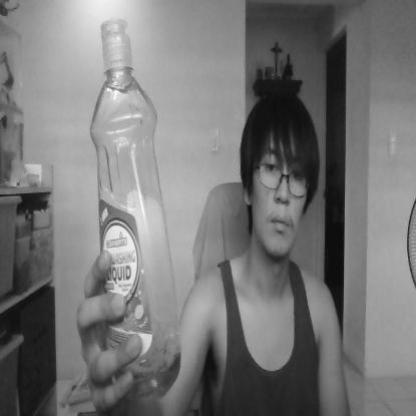Plastic Bottle: (84, 14, 191, 392)
